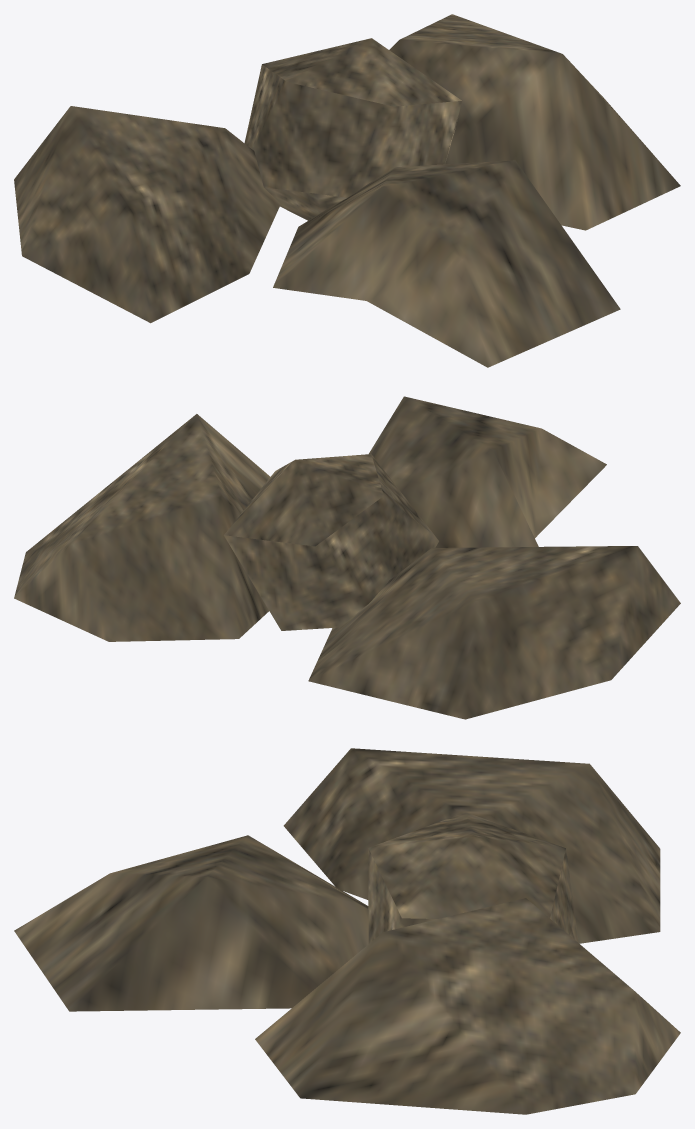
The model's file is rock_gclump2.glb.
3 renders of one model, top to bottom at view 1: azimuth 30°, elevation 25°; view 2: azimuth 150°, elevation 25°; view 3: azimuth 270°, elevation 25°, orthographic. The views are drawn at different scales.
Parts seen in each view (by area): view 1: Rock_GClump2; view 2: Rock_GClump2; view 3: Rock_GClump2.
Boxes of the visible parts, x1=… form: Rock_GClump2: x1=14, y1=14, x2=680, y2=367; Rock_GClump2: x1=14, y1=396, x2=680, y2=719; Rock_GClump2: x1=14, y1=748, x2=680, y2=1114.
Size of the model in its own units: 24.61 by 6.52 by 22.9.
Materials: 1 (1 with a texture image).
